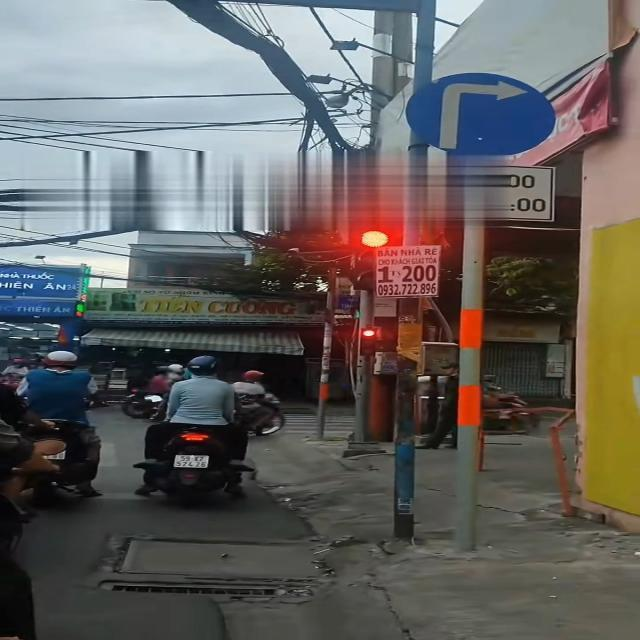301d-cac-xe-chi-duoc-re-phai-2: (403, 69, 557, 163)
